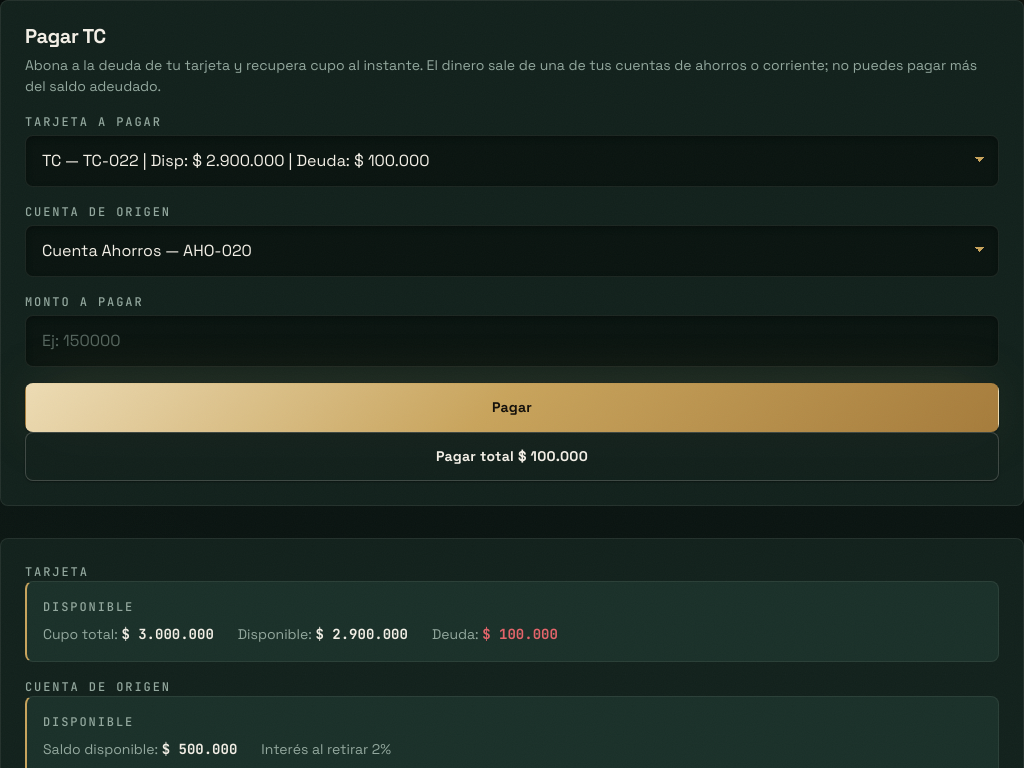
Scenario: Pagar TC (el dinero sale de una cuenta real) › envía la tarjeta, la cuenta de origen y el monto al backend
The image size is (1024, 768).
Expected: the dropdown labelled "Tarjeta a pagar" shows "TC — TC-022 | Disp: $ 2.900.000 | Deuda: $ 100.000", [25,135,999,187]
Expected: the dropdown labelled "Cuenta de origen" shows "Cuenta Ahorros — AHO-020", [25,225,999,277]
Type "50000" into the number field labelled "Monto a pagar".
click(512, 341); type("50000")  # box [25,315,999,367]
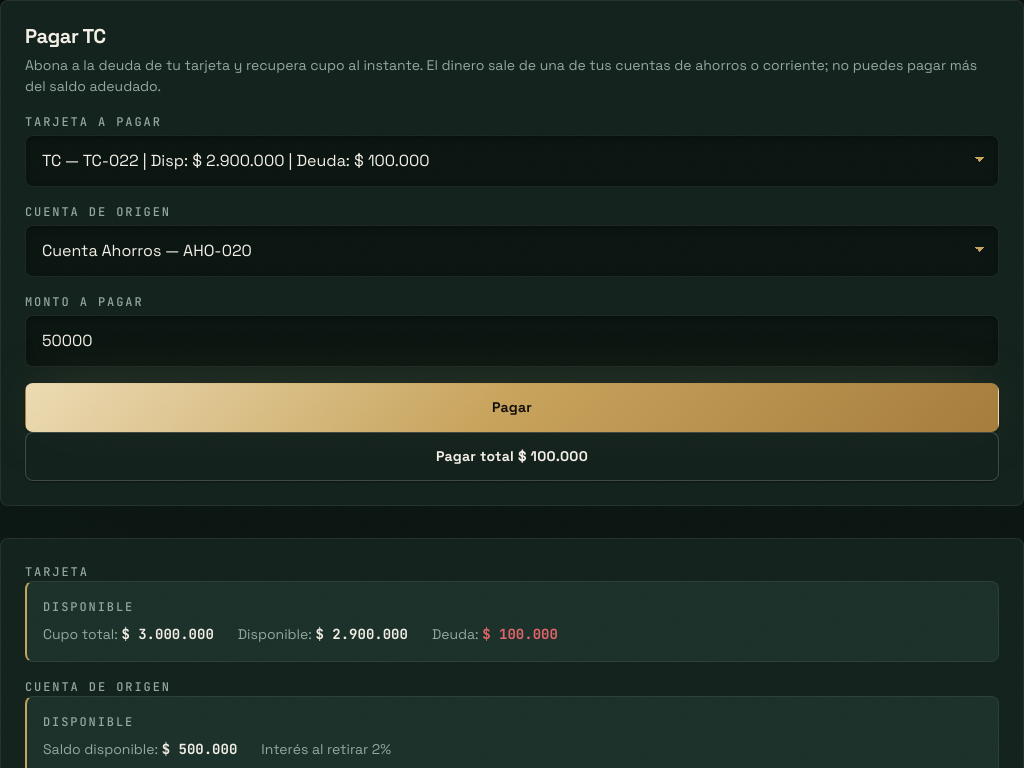
Click the button "Pagar".
click(512, 408)  # box [25,383,999,432]
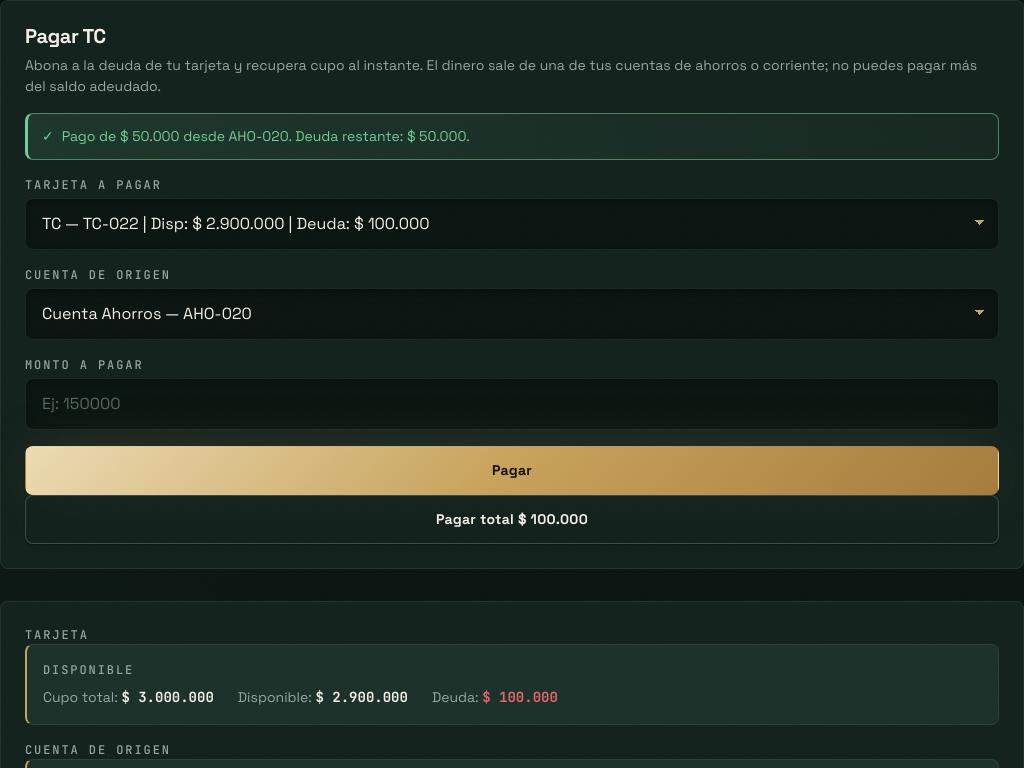
Now the message "✓ Pago de $ 50.000 desde AHO-020. Deuda restante: $ 50.000." is shown, box [25,113,999,160]
